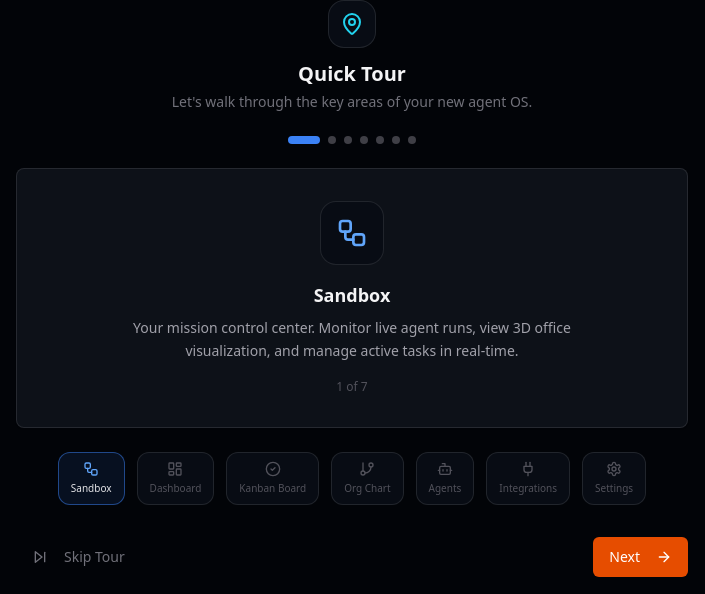
Test: FeatureTour › navigates to next stop when Next is clicked
Click the button "Next" at x=641, y=556, box left=593, top=536, right=688, bottom=576
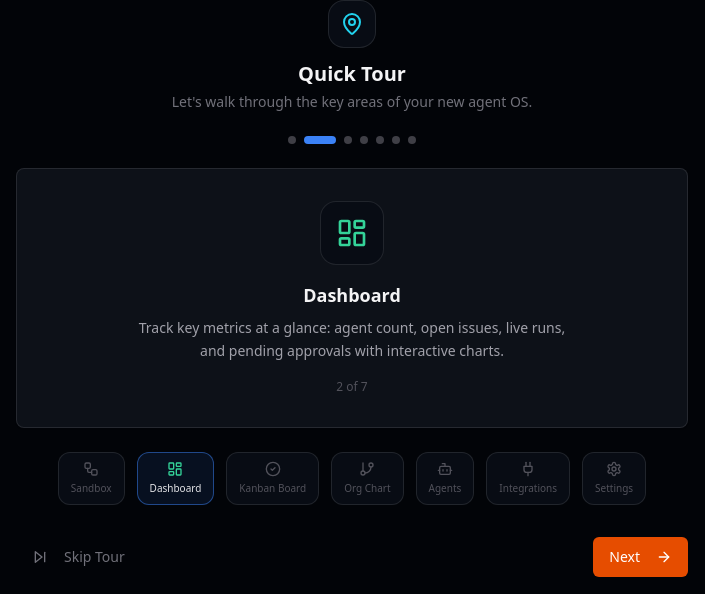
Expected: the text "2 of 7" is shown, left=336, top=378, right=368, bottom=394
Expected: the text "key metrics at a glance" is shown, left=139, top=318, right=565, bottom=360
